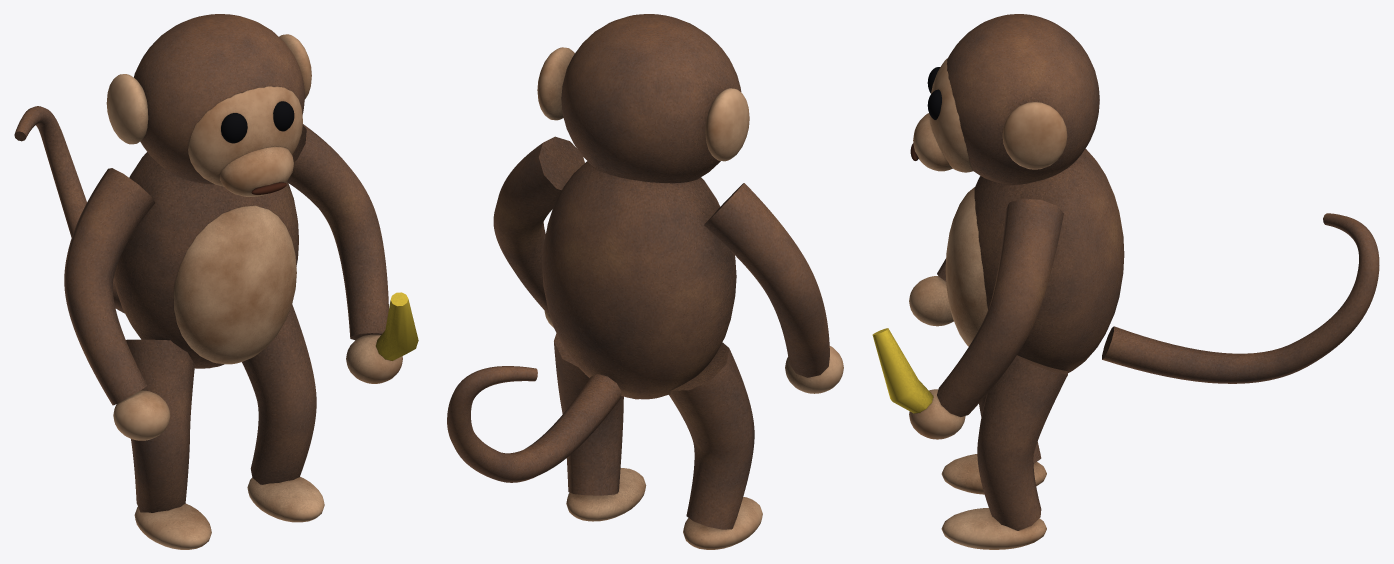
Rendered from pet_macaco.glb.
The picture shows the model from 3 angles, left to right: view 1: azimuth 30°, elevation 25°; view 2: azimuth 150°, elevation 25°; view 3: azimuth 270°, elevation 25°; orthographic projection. The views are drawn at different scales.
Parts seen in each view (by area): view 1: corpo, cabeca, patas_b, patas_a, cauda; view 2: corpo, cabeca, patas_a, cauda, patas_b; view 3: corpo, cabeca, patas_b, cauda, patas_a.
Boxes of the visible parts, box(x1,y1,x2,y2) form: corpo: box(64, 124, 418, 440); cabeca: box(106, 14, 311, 196); patas_b: box(242, 304, 324, 522); patas_a: box(126, 339, 211, 549); cauda: box(14, 106, 124, 313); corpo: box(493, 136, 843, 399); cabeca: box(537, 14, 749, 183); patas_a: box(669, 342, 762, 549); cauda: box(447, 366, 621, 482); patas_b: box(554, 333, 646, 521); corpo: box(872, 148, 1124, 439); cabeca: box(910, 14, 1099, 184); patas_b: box(941, 355, 1067, 549); cauda: box(1102, 213, 1379, 383); patas_a: box(941, 395, 1046, 494).
Bounding box in the file's own units: 0.4377 × 0.672 × 0.624.
1 material, 1 textured.
